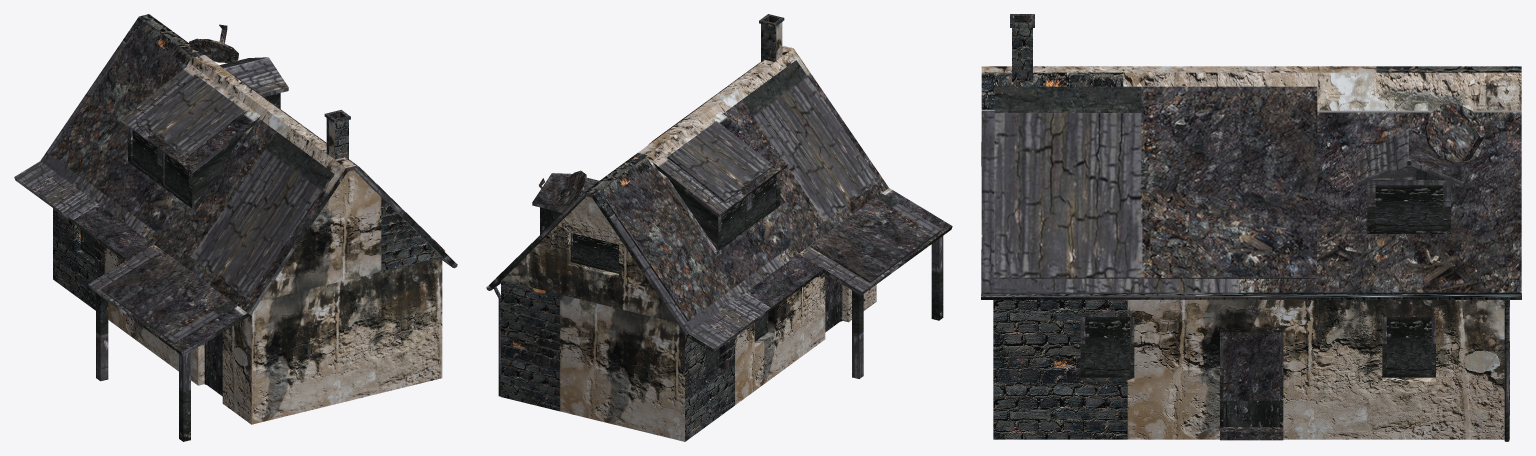
Rendered from haus3.fbx.
The picture shows the model from 3 angles, left to right: view 1: azimuth 30°, elevation 25°; view 2: azimuth 150°, elevation 25°; view 3: azimuth 270°, elevation 25°; orthographic projection. The views are drawn at different scales.
Parts seen in each view (by area): view 1: haus3_LOD0; view 2: haus3_LOD0; view 3: haus3_LOD0.
Boxes of the visible parts, x1,y1,x2,y2 form: haus3_LOD0: (14,14,457,441); haus3_LOD0: (486,14,952,441); haus3_LOD0: (981,14,1521,441).
Size of what is drawn, in the model's own units: 15.8 by 15.18 by 20.6.
